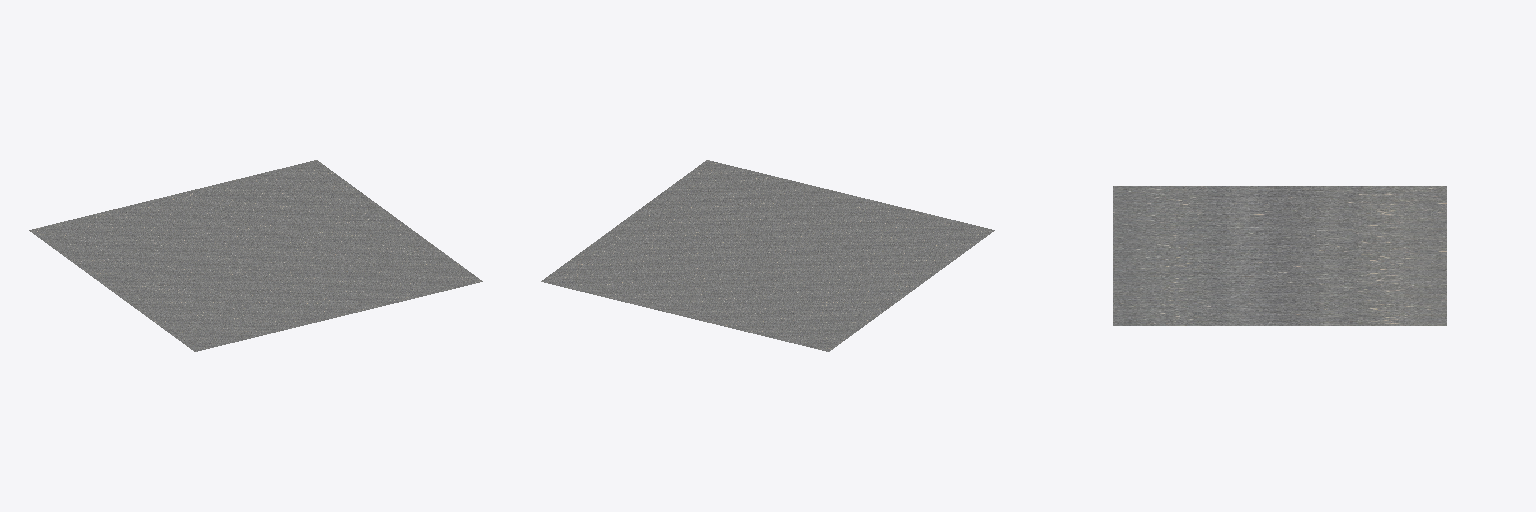
3 views of the same model, side by side, from view 1: azimuth 30°, elevation 25°; view 2: azimuth 150°, elevation 25°; view 3: azimuth 270°, elevation 25° (orthographic).
Visible parts, largest first — view 1: plane; view 2: plane; view 3: plane.
Boxes of the visible parts, x1=… form: plane: x1=29, y1=160, x2=482, y2=351; plane: x1=541, y1=160, x2=994, y2=351; plane: x1=1113, y1=186, x2=1446, y2=325.
Size of the model in its own units: 1 by 0 by 1.
1 materials, 1 textured.